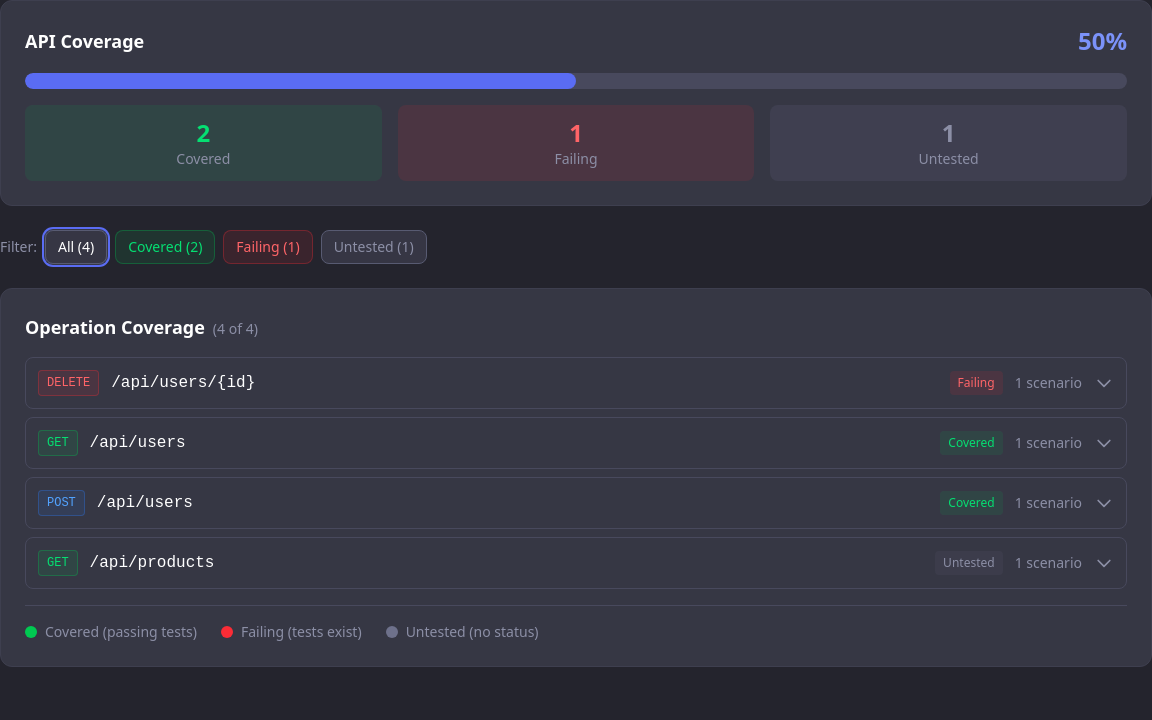
Test: OperationCoverageTable › only one operation expanded at a time
What coordinates should you click on to do the following:
click the button "GET /api/users Covered 1 scenario"
I would click on:
 (58, 443)
Its box is [26,418,1126,468].
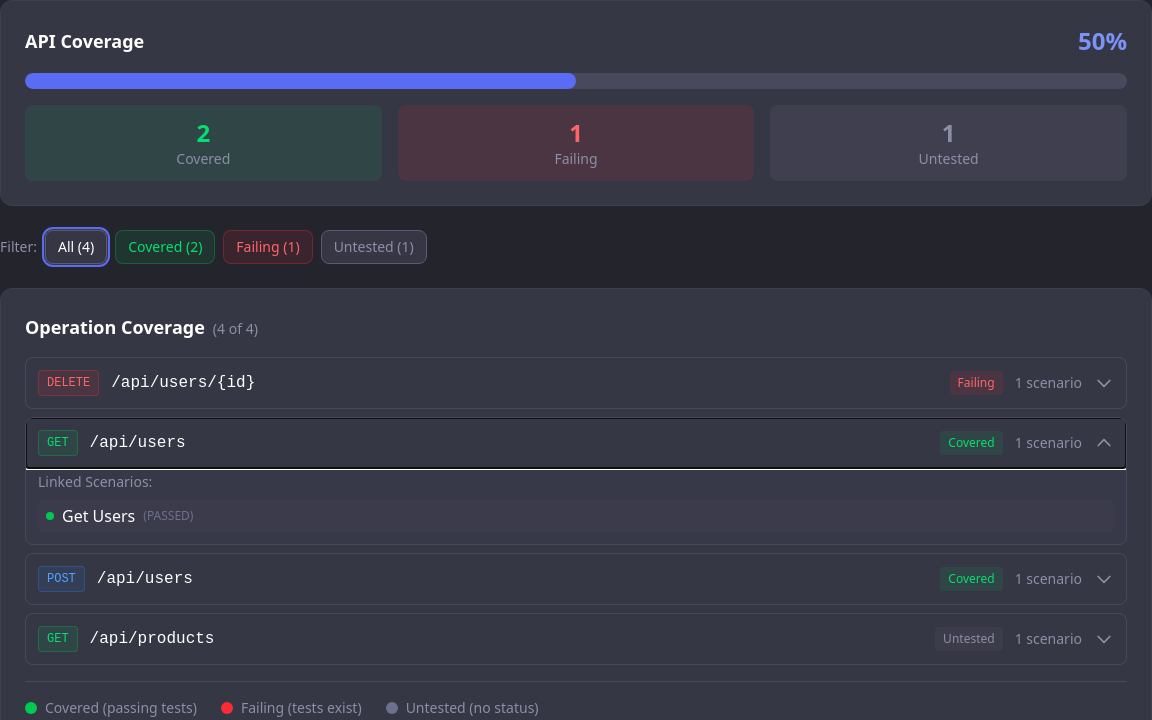
Now the text "Get Users" is shown, box [62,504,135,528]
What coordinates should you click on to do the following:
click the button "POST /api/users Covered 1 scenario"
I would click on:
 (61, 579)
Its box is [26,554,1126,604].
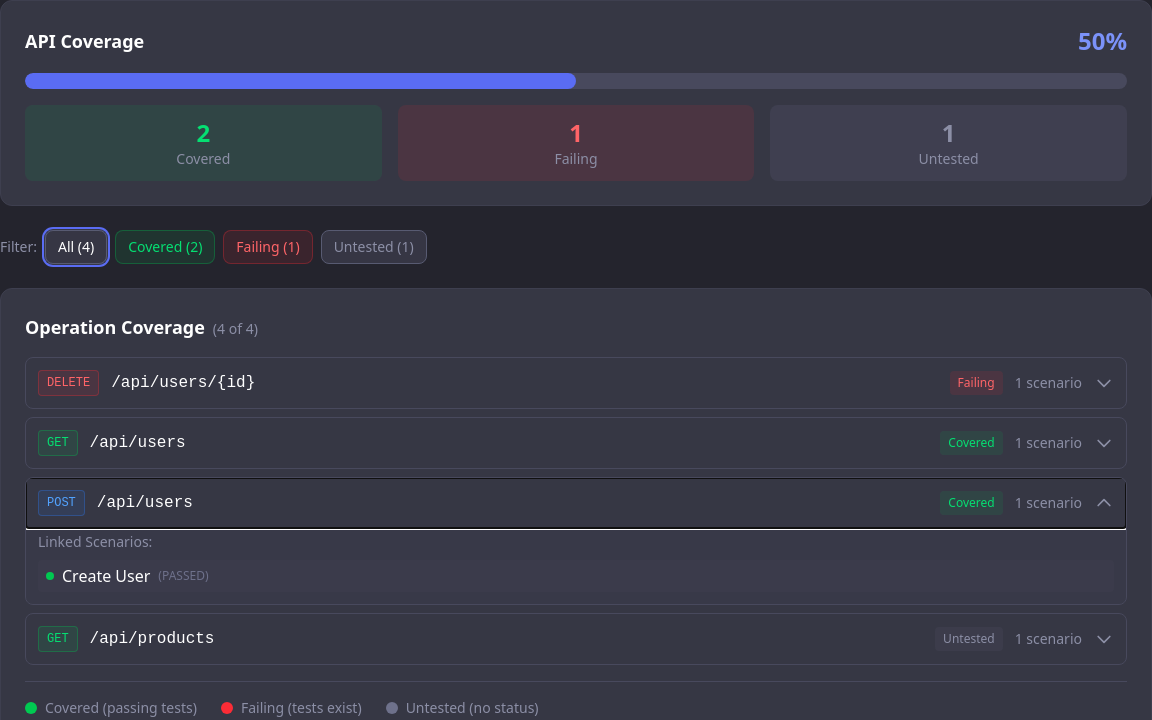
Now the text "Get Users" is gone
Now the text "Create User" is shown, box [62,564,150,588]
